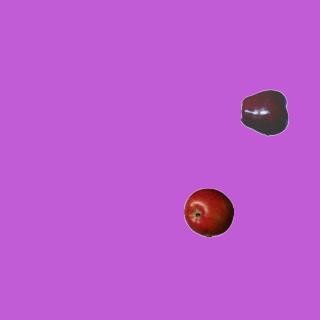Apple Braeburn: (183, 187, 233, 237)
Apple Red Delicious: (240, 87, 290, 137)
